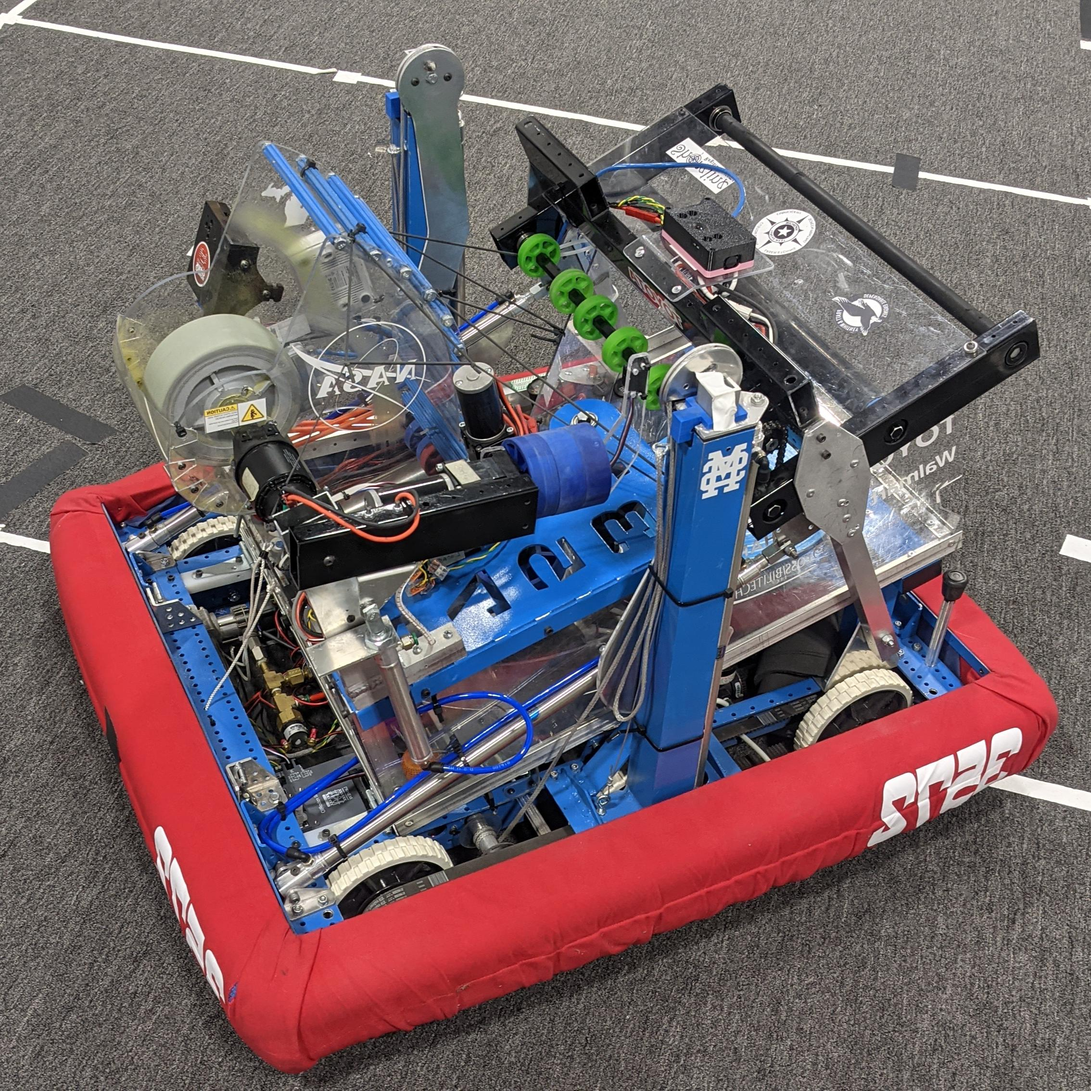robot: (40, 38, 1070, 1084)
